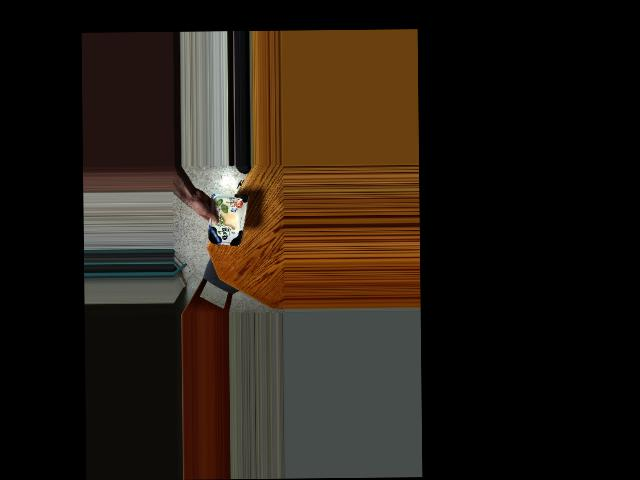cheese: (208, 197, 245, 244)
